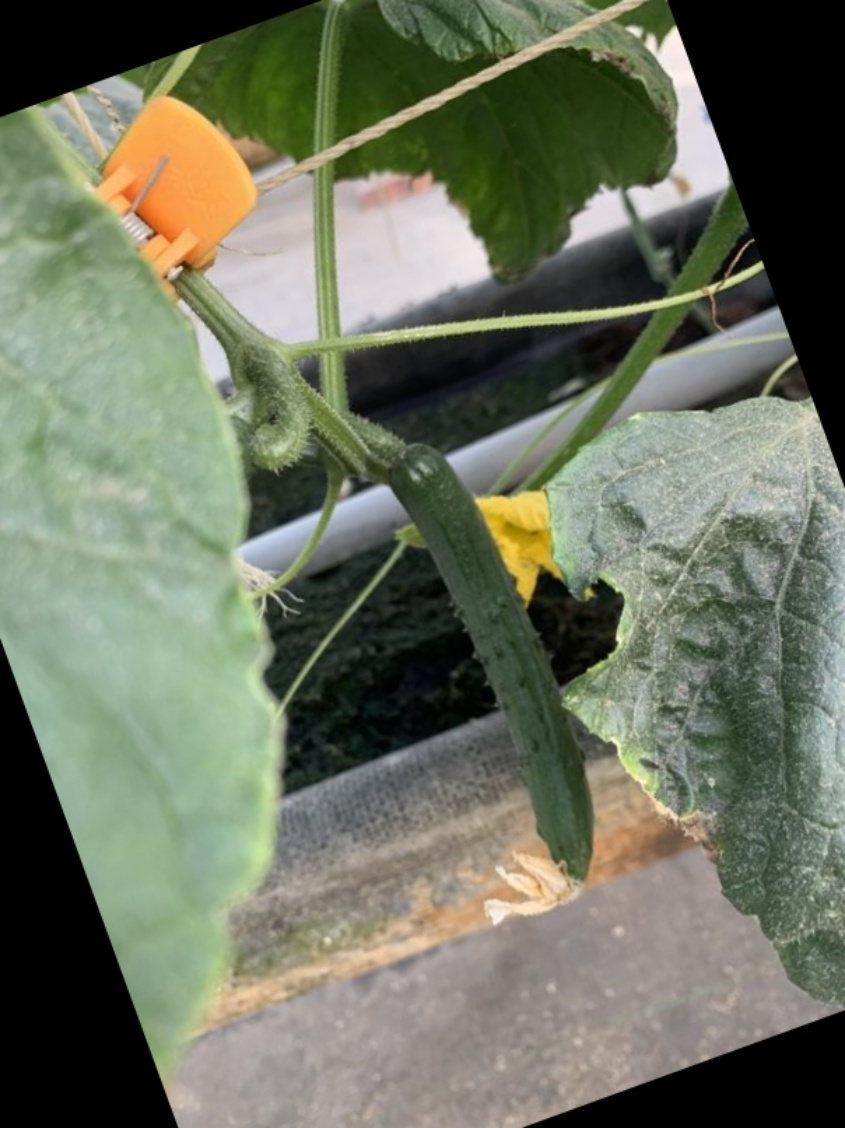mature: (390, 445, 613, 904)
